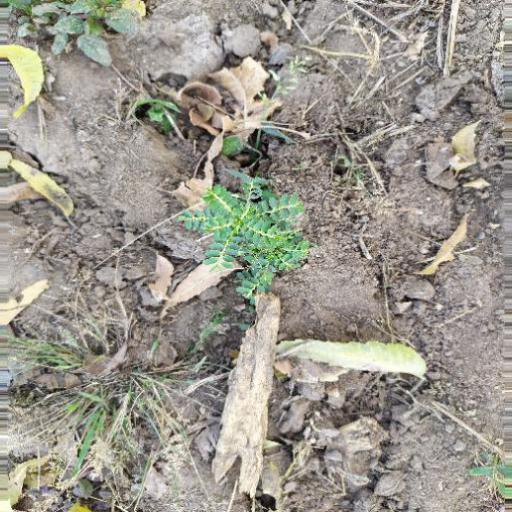weed: (13, 329, 185, 497), (175, 171, 322, 302)
